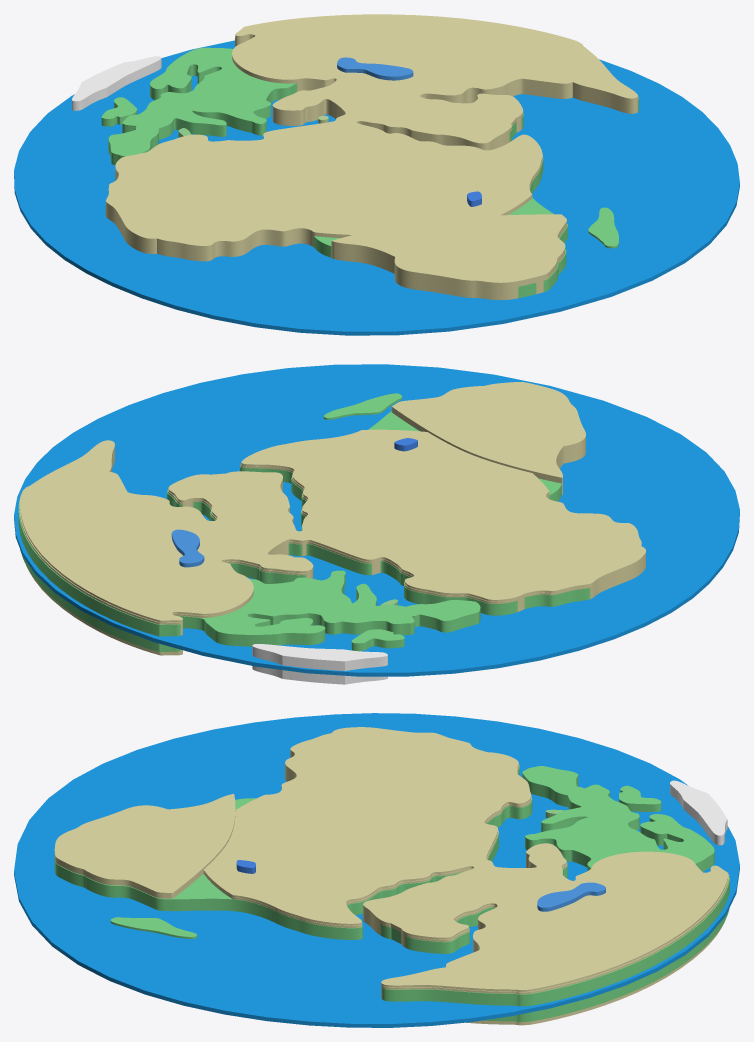
Rendered from emoji_u1f30d.glb.
3 views of the same model, one above another, from view 1: azimuth 30°, elevation 25°; view 2: azimuth 150°, elevation 25°; view 3: azimuth 270°, elevation 25° (orthographic).
Visible parts, largest first — view 1: emoji_u1f30d; view 2: emoji_u1f30d; view 3: emoji_u1f30d.
Part boxes in pixels (x1,y1,x2,y2): emoji_u1f30d: (14,14,739,335); emoji_u1f30d: (14,364,739,684); emoji_u1f30d: (14,713,739,1027).
Size of the model in its own units: 0.0341 by 0.0024 by 0.0337.
